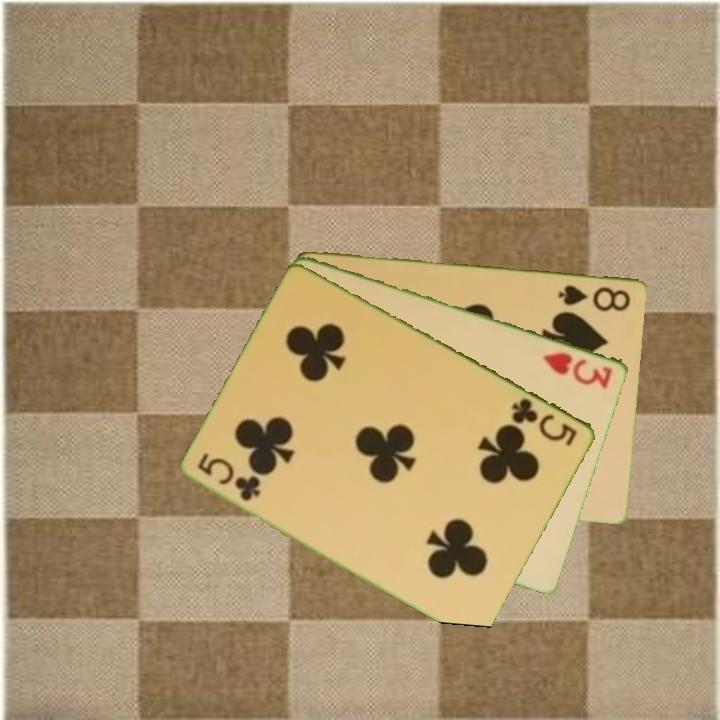3h: (540, 348, 616, 392)
5c: (508, 394, 581, 449), (195, 450, 265, 504)
8s: (555, 281, 634, 314)
